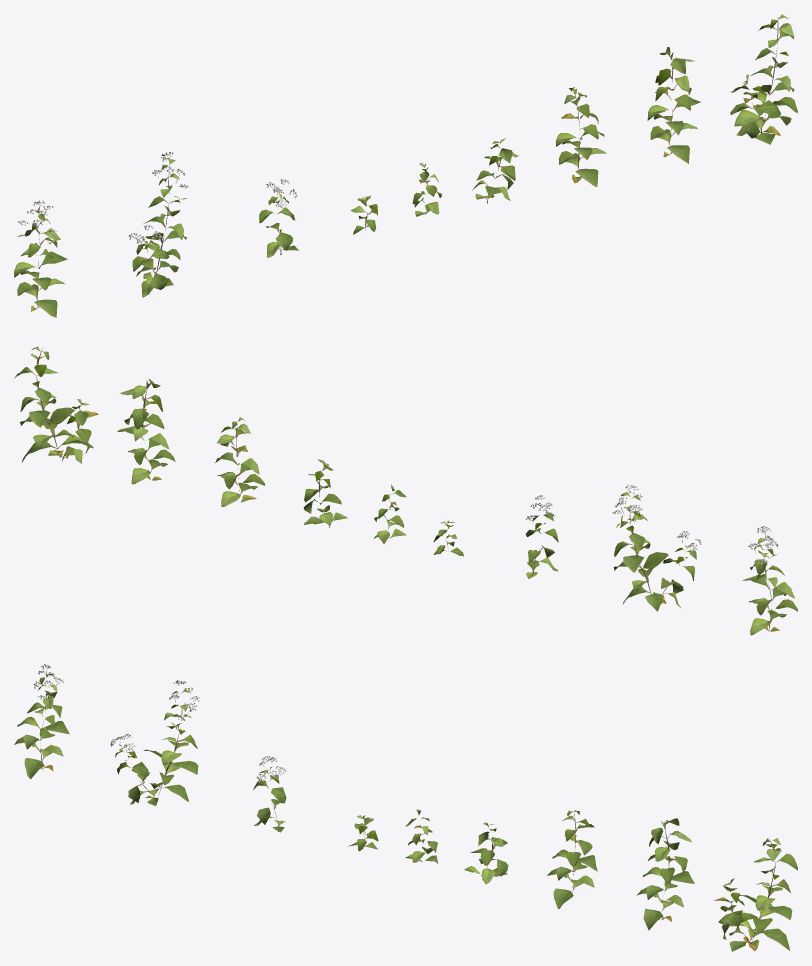
File: shrub.glb
3 renders of one model, top to bottom at view 1: azimuth 30°, elevation 25°; view 2: azimuth 150°, elevation 25°; view 3: azimuth 330°, elevation 25°, orthographic. The views are drawn at different scales.
Parts seen in each view (by area): view 1: shrub_01_a; view 2: shrub_01_a; view 3: shrub_01_a.
Boxes of the visible parts, x1=… form: shrub_01_a: x1=14, y1=14, x2=797, y2=317; shrub_01_a: x1=14, y1=346, x2=797, y2=635; shrub_01_a: x1=14, y1=664, x2=797, y2=951.
Bounding box in the file's own units: 2.59 × 0.3956 × 0.2178.
Materials: 1 (1 with a texture image).
